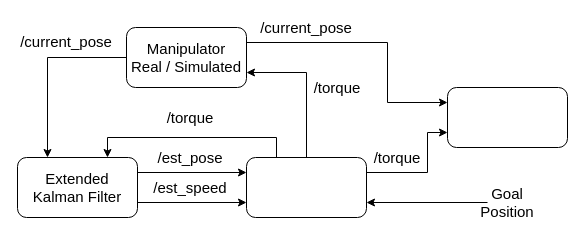
Image size: 585x237. Some labels were removed from this diagram. The box of each missing label's shape, as (x1, y1, x2, y2) in pixels:
Control PD+: (246, 156, 366, 218)
SMO and Mass Estimator: (446, 86, 568, 148)
